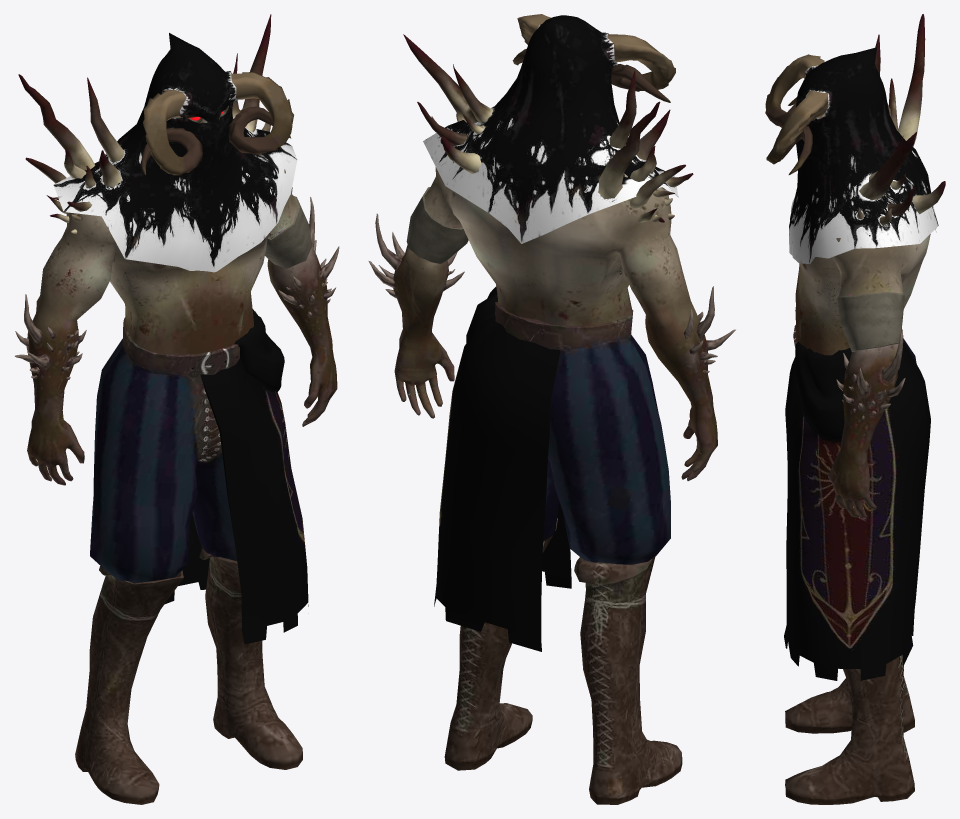
The picture shows the model from 3 angles, left to right: view 1: azimuth 30°, elevation 25°; view 2: azimuth 150°, elevation 25°; view 3: azimuth 270°, elevation 25°; orthographic projection. The views are drawn at different scales.
Parts seen in each view (by area): view 1: Body_LP, Hood_LP, Boot_LP, Skirt_LP, Horn_LP, Spikes_LP; view 2: Body_LP, Skirt_LP, Hood_LP, Boot_LP, Spikes_LP, Horn_LP; view 3: Skirt_LP, Hood_LP, Body_LP, Boot_LP, Spikes_LP, Horn_LP.
Boxes of the visible parts, x1=… form: Body_LP: x1=15, y1=106, x2=339, y2=583; Hood_LP: x1=53, y1=33, x2=297, y2=272; Boot_LP: x1=75, y1=547, x2=302, y2=804; Skirt_LP: x1=165, y1=309, x2=308, y2=644; Horn_LP: x1=140, y1=72, x2=293, y2=175; Spikes_LP: x1=18, y1=14, x2=285, y2=235; Body_LP: x1=368, y1=167, x2=735, y2=564; Skirt_LP: x1=434, y1=286, x2=571, y2=651; Hood_LP: x1=423, y1=15, x2=678, y2=243; Boot_LP: x1=444, y1=518, x2=682, y2=804; Spikes_LP: x1=403, y1=34, x2=693, y2=222; Horn_LP: x1=512, y1=14, x2=675, y2=102; Skirt_LP: x1=784, y1=341, x2=930, y2=680; Hood_LP: x1=789, y1=47, x2=938, y2=263; Body_LP: x1=793, y1=91, x2=930, y2=518; Boot_LP: x1=785, y1=655, x2=914, y2=804; Spikes_LP: x1=857, y1=14, x2=945, y2=236; Horn_LP: x1=765, y1=54, x2=828, y2=174.
Bounding box in the file's own units: 244 × 525 × 121.
2 materials, 2 textured.
